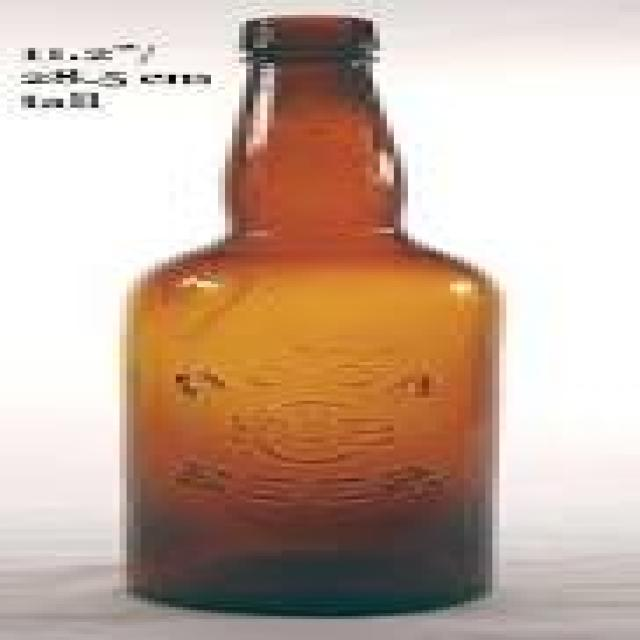Anorganik: (112, 12, 492, 613)
